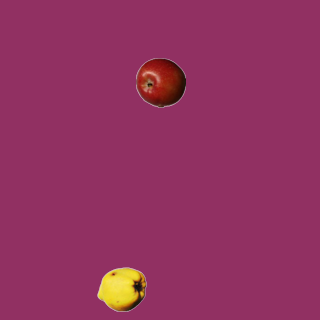Apple Braeburn: (135, 57, 185, 107)
Quince: (96, 264, 146, 314)
